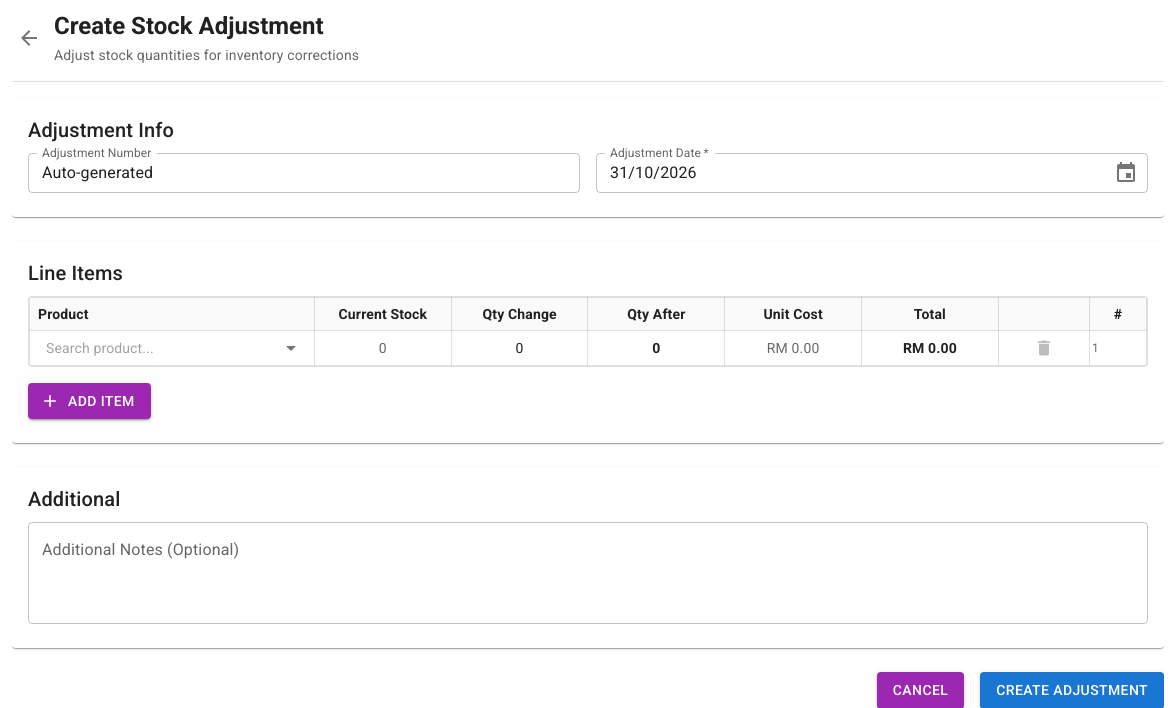
Test: CreateStockAdjustmentPage › product exclusion › hides an already-selected product from other rows
Step 1. Click the dropdown with placeholder "Search product..." → coordinates (156, 348), box [38,336,273,360]
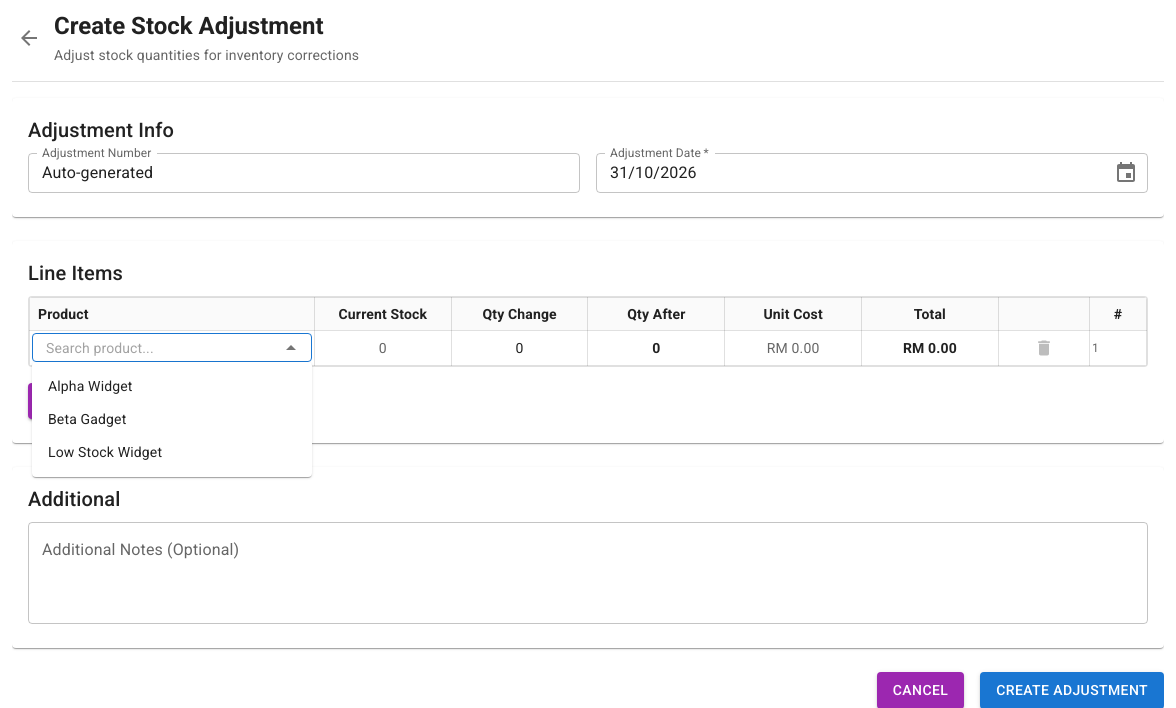
Step 2. Click the option "Alpha Widget" → coordinates (90, 386), box [48,378,133,394]
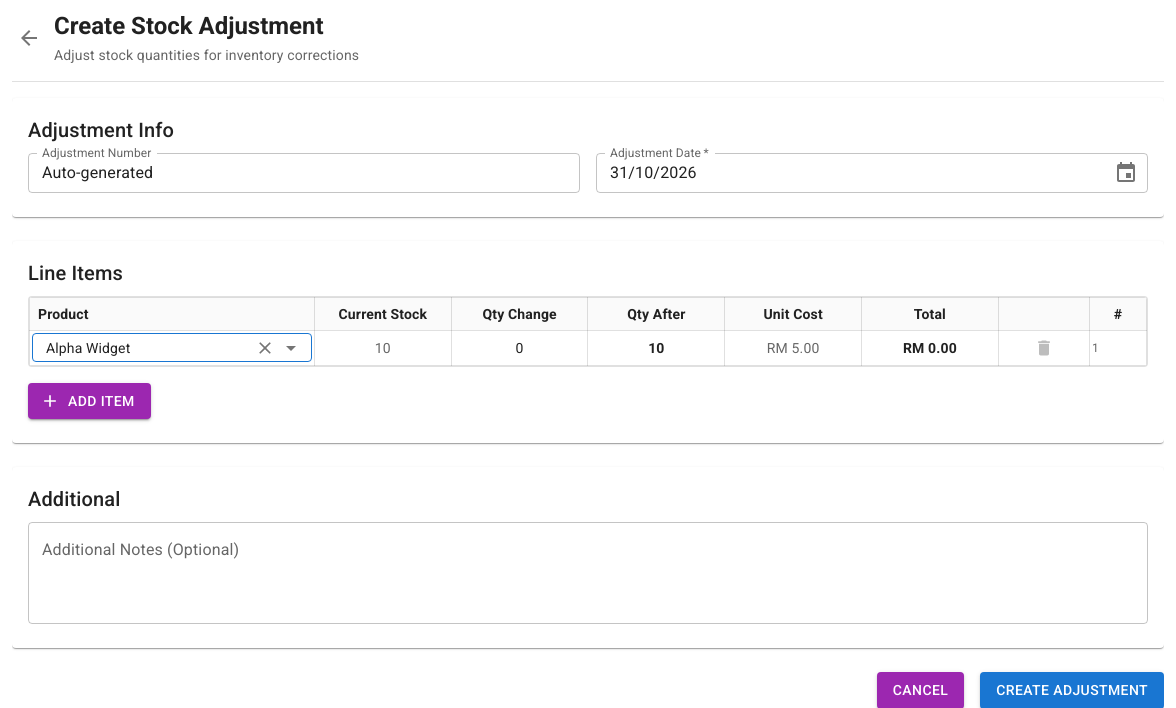
Now the dropdown with placeholder "Search product..." holds "Alpha Widget", box [38,336,247,360]
Step 3. Click the button "Add Item" → coordinates (89, 401), box [28,383,151,419]
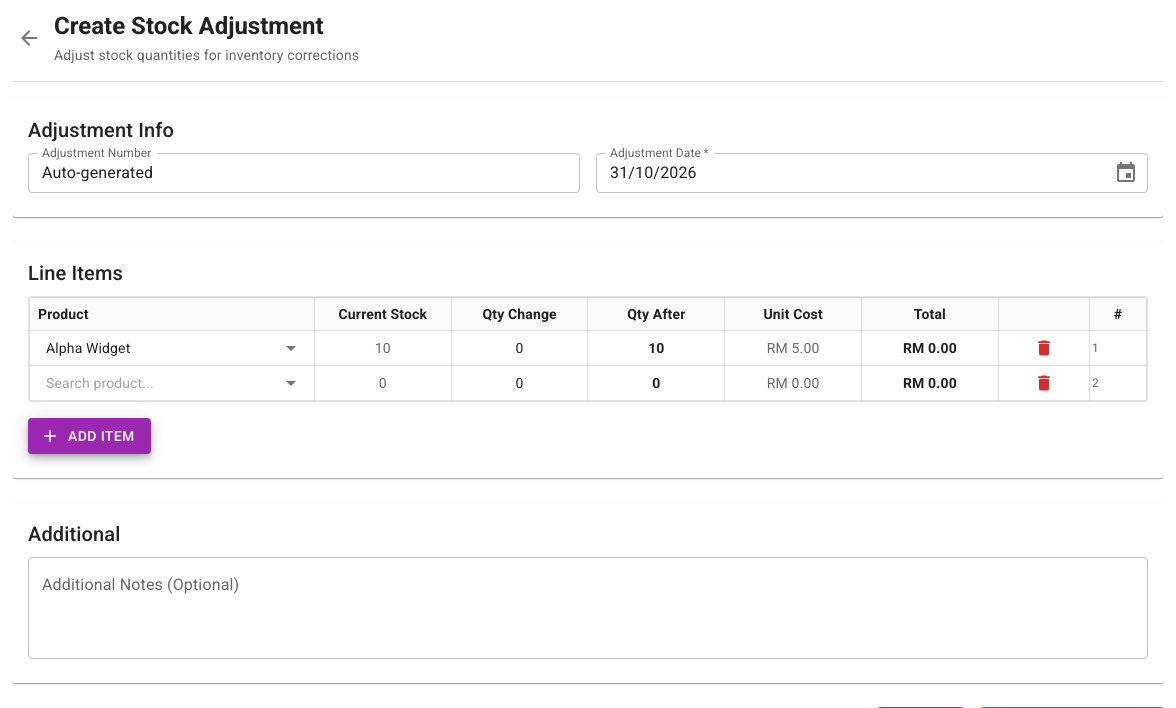
Step 4. Click the dropdown with placeholder "Search product..." → coordinates (156, 383), box [38,371,273,395]
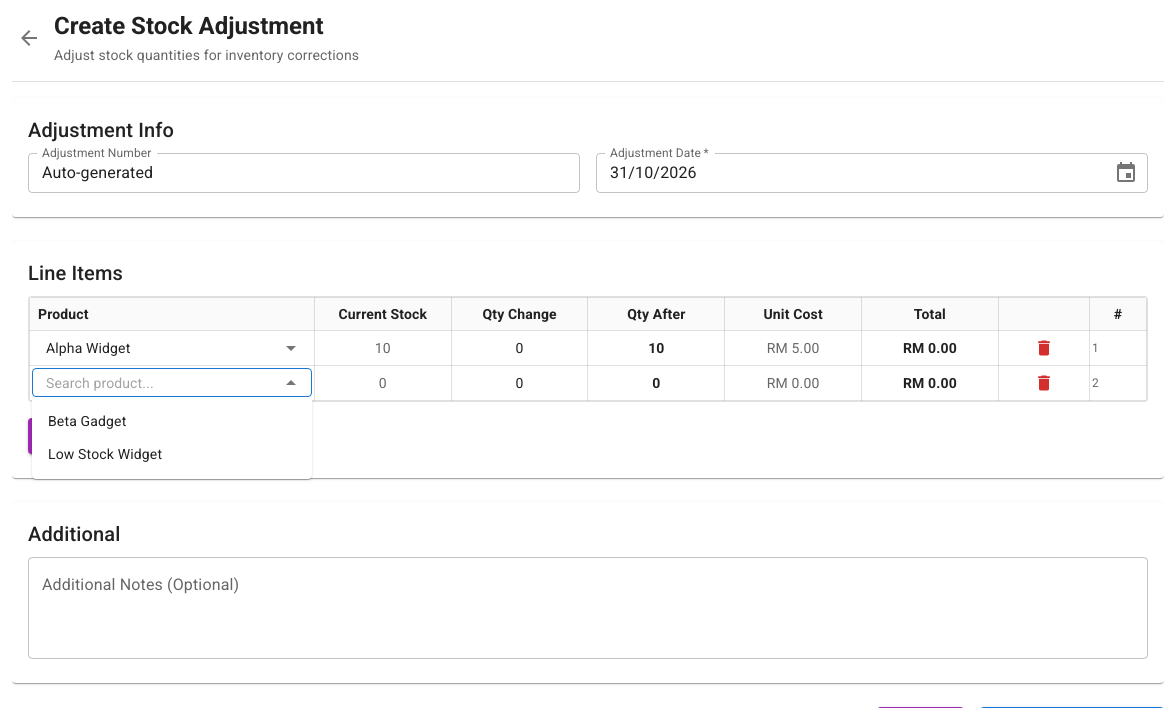
Now the option "Beta Gadget" is shown, box [48,413,126,429]
